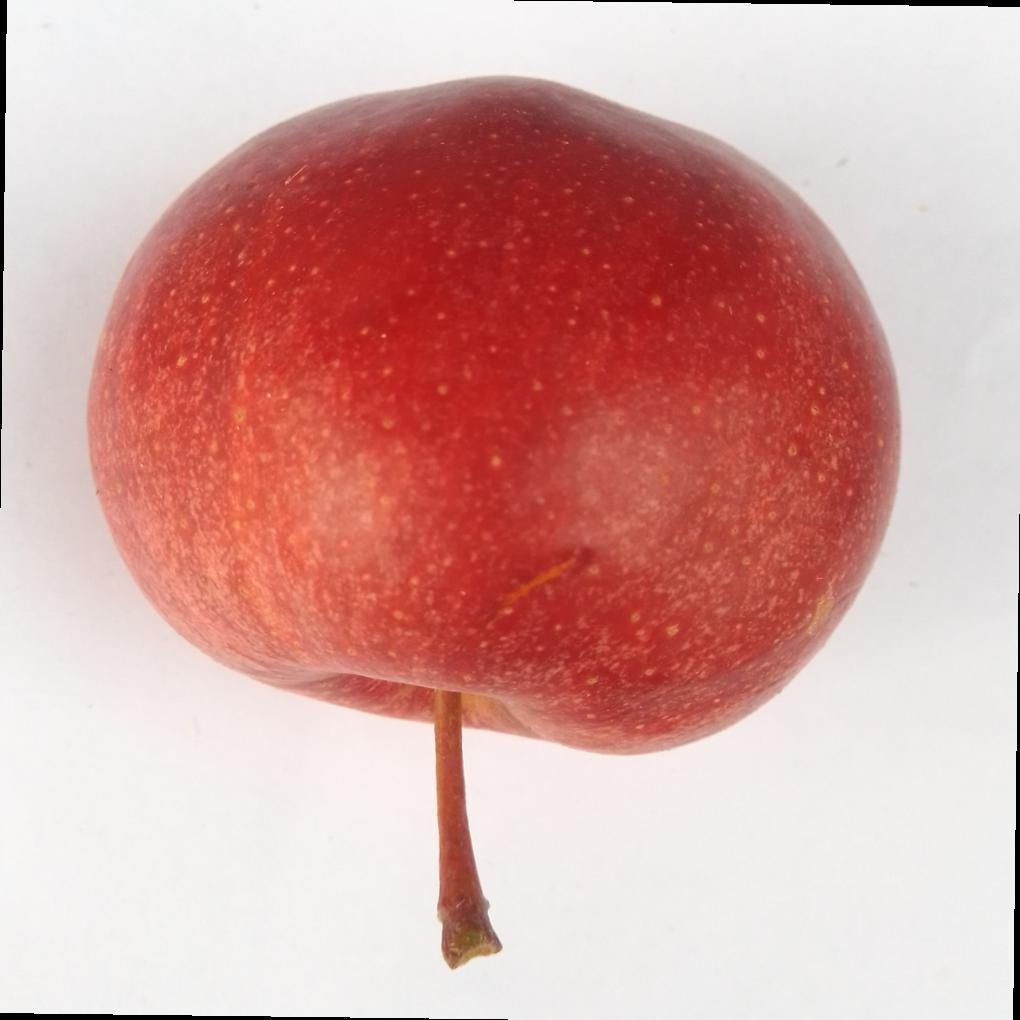FreshGuava: (83, 76, 903, 973)
